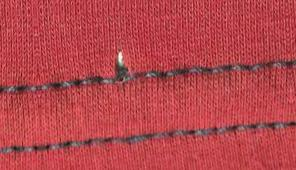hole: (109, 49, 134, 70)
